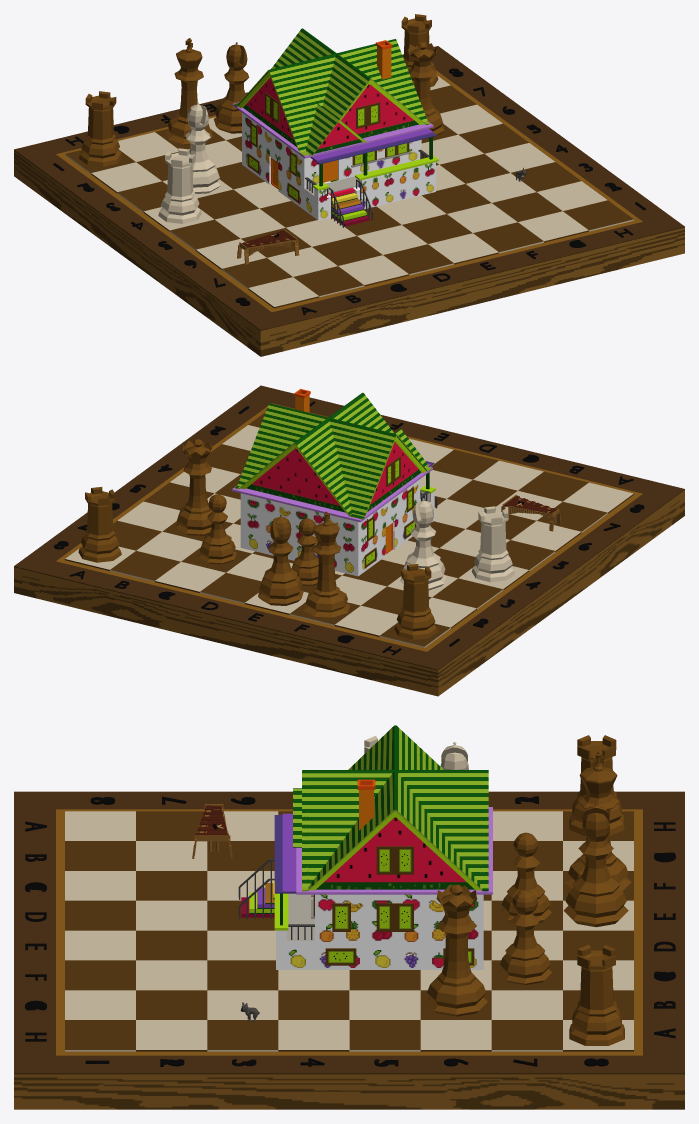
3 views of the same model, one above another, from view 1: azimuth 30°, elevation 25°; view 2: azimuth 150°, elevation 25°; view 3: azimuth 270°, elevation 25° (orthographic). The views are drawn at different scales.
Visible parts, largest first — view 1: Cube.002, Cube.1063, OBJRANDOM_MARIMBA; view 2: Cube.002, Cube.1063, OBJRANDOM_MARIMBA; view 3: Cube.002, Cube.1063, OBJRANDOM_MARIMBA.
Part boxes in pixels (x1=…): Cube.002: x1=14, y1=14, x2=684, y2=356; Cube.1063: x1=232, y1=28, x2=438, y2=227; OBJRANDOM_MARIMBA: x1=237, y1=229, x2=299, y2=264; Cube.002: x1=14, y1=385, x2=684, y2=696; Cube.1063: x1=232, y1=389, x2=437, y2=576; OBJRANDOM_MARIMBA: x1=501, y1=495, x2=561, y2=531; Cube.002: x1=14, y1=735, x2=684, y2=1109; Cube.1063: x1=238, y1=725, x2=492, y2=969; OBJRANDOM_MARIMBA: x1=192, y1=804, x2=232, y2=858.
Size of the model in its own units: 3981 by 1492 by 4012.
Materials: 27 (4 with a texture image).
